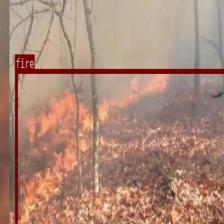fire: (14, 68, 223, 224)
